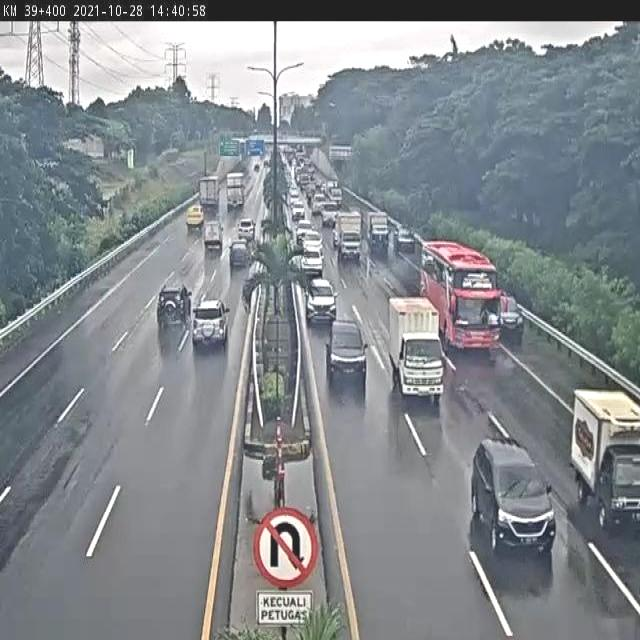Bus: (420, 241, 502, 359)
Car: (468, 433, 555, 556), (325, 320, 368, 395), (191, 298, 230, 351), (304, 277, 338, 324), (501, 296, 527, 339), (203, 219, 223, 253), (299, 246, 322, 272), (396, 226, 416, 254), (229, 240, 249, 268), (302, 227, 322, 252), (186, 205, 204, 230), (237, 218, 255, 242), (328, 187, 343, 210)
Truck: (568, 374, 640, 530), (385, 297, 445, 404), (156, 282, 192, 328), (334, 210, 362, 261), (368, 211, 390, 254), (199, 176, 220, 213), (226, 171, 246, 208)
